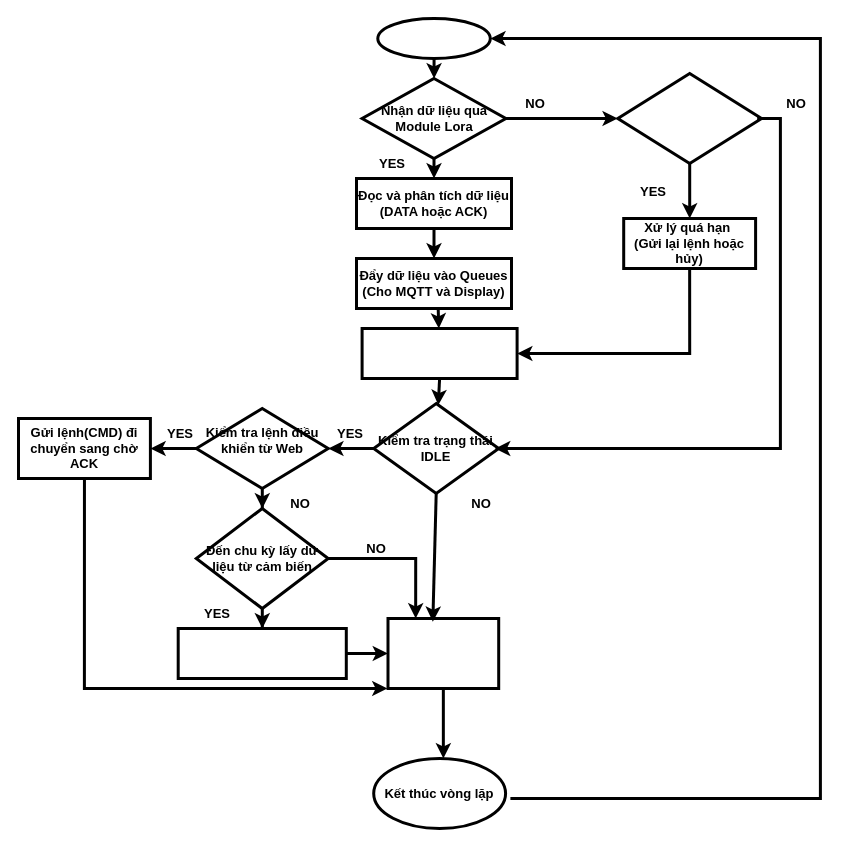
Image size: 847x847. Some labels were removed from this diagram. The shapes that lost their labels are listed below. From the top down, each one's centre as x and y in pixels, then its label:
At (x=433, y=38): "Bắt đầu".
At (x=689, y=118): "Bị quá hạn(Timeout) chờ DAtA / ACK".
At (x=439, y=353): "Chuyển trạng thái về IDLE(rảnh rỗi)".
At (x=261, y=653): "Gửi yêu cầu (REQ) chuyển sang chờ Data".
At (x=443, y=653): "OsDelay".
